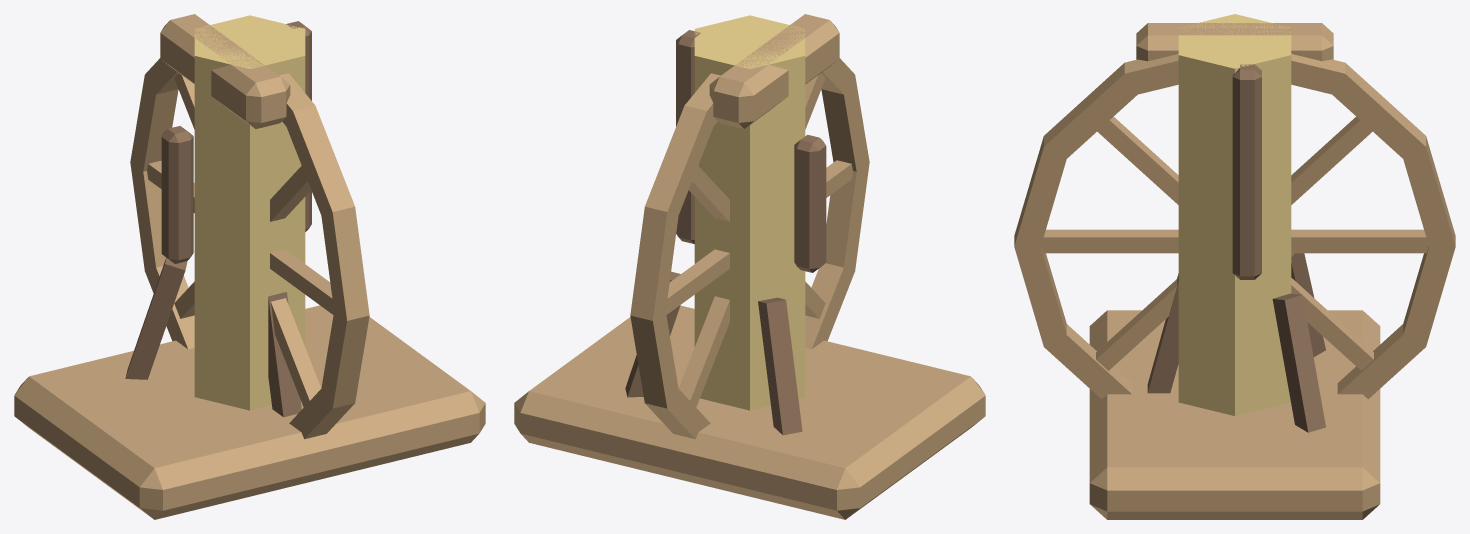
The model's file is spinning_wheel.glb.
3 renders of one model, left to right at view 1: azimuth 30°, elevation 25°; view 2: azimuth 150°, elevation 25°; view 3: azimuth 270°, elevation 25°, orthographic.
Parts seen in each view (by area): view 1: spinning_wheel_1, spinning_wheel_3, spinning_wheel_2, spinning_wheel_0; view 2: spinning_wheel_1, spinning_wheel_3, spinning_wheel_2, spinning_wheel_0; view 3: spinning_wheel_1, spinning_wheel_2, spinning_wheel_3, spinning_wheel_0.
Part boxes in pixels (bbox=[...]): spinning_wheel_1: bbox=[14, 14, 485, 519]; spinning_wheel_3: bbox=[194, 15, 305, 410]; spinning_wheel_2: bbox=[130, 58, 369, 439]; spinning_wheel_0: bbox=[125, 21, 311, 417]; spinning_wheel_1: bbox=[514, 14, 985, 519]; spinning_wheel_3: bbox=[694, 15, 805, 410]; spinning_wheel_2: bbox=[630, 58, 869, 439]; spinning_wheel_0: bbox=[625, 30, 826, 435]; spinning_wheel_1: bbox=[1089, 23, 1380, 519]; spinning_wheel_2: bbox=[1014, 54, 1455, 399]; spinning_wheel_3: bbox=[1178, 14, 1291, 415]; spinning_wheel_0: bbox=[1147, 64, 1325, 432].
Size of the model in its own units: 1.84 by 2 by 2.
